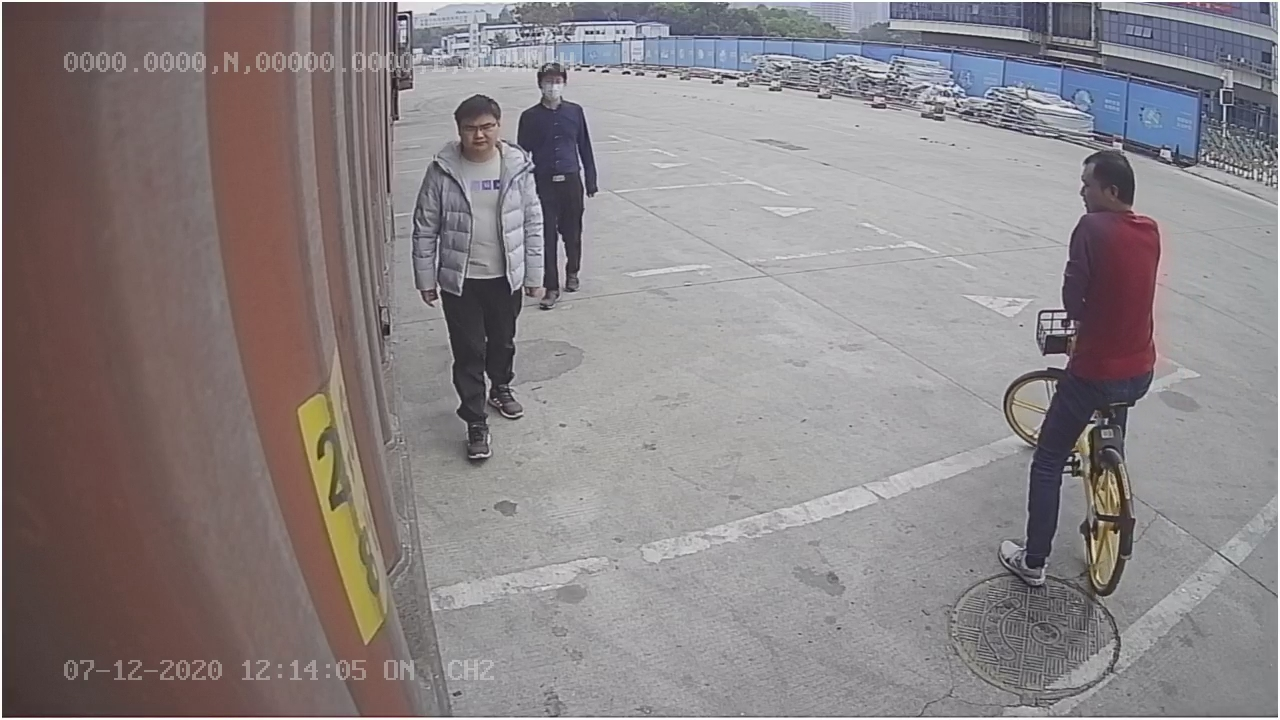person: (414, 95, 546, 459)
